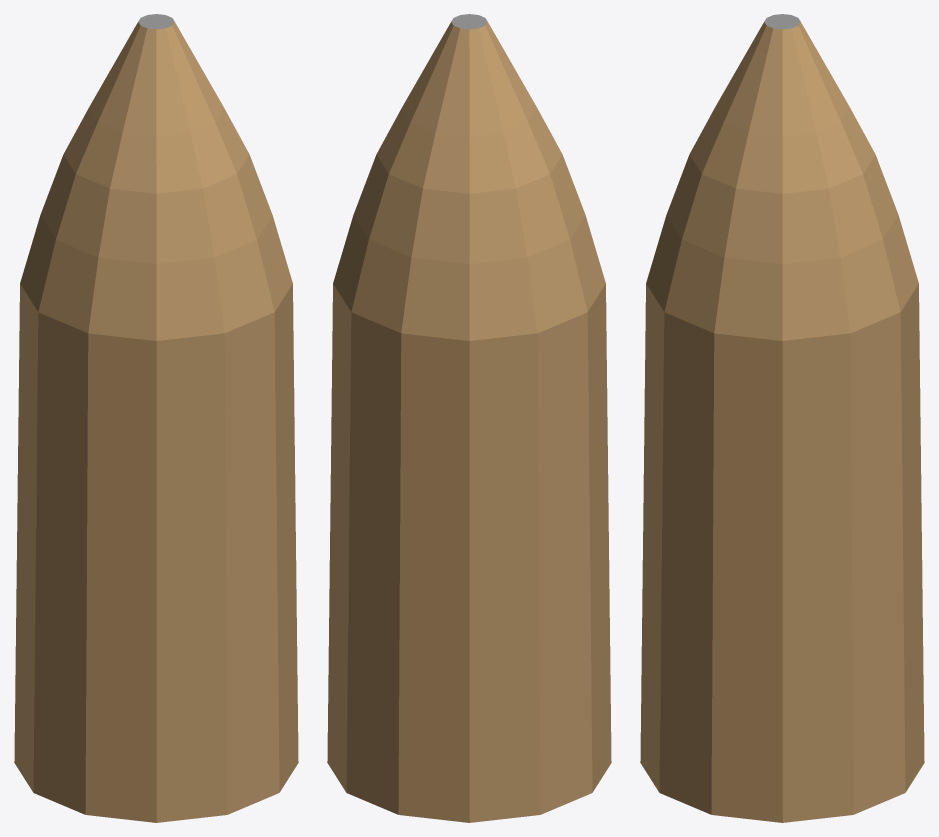
Rendered from sniperRifleBullet.fbx.
3 renders of one model, left to right at view 1: azimuth 30°, elevation 25°; view 2: azimuth 150°, elevation 25°; view 3: azimuth 270°, elevation 25°, orthographic.
Visible parts, largest first — view 1: Cylinder; view 2: Cylinder; view 3: Cylinder.
Boxes of the visible parts, x1,y1,x2,y2 form: Cylinder: (14, 14, 298, 822); Cylinder: (327, 14, 611, 822); Cylinder: (640, 14, 924, 822).
Size of the model in its own units: 4.7 by 13.52 by 4.7.
